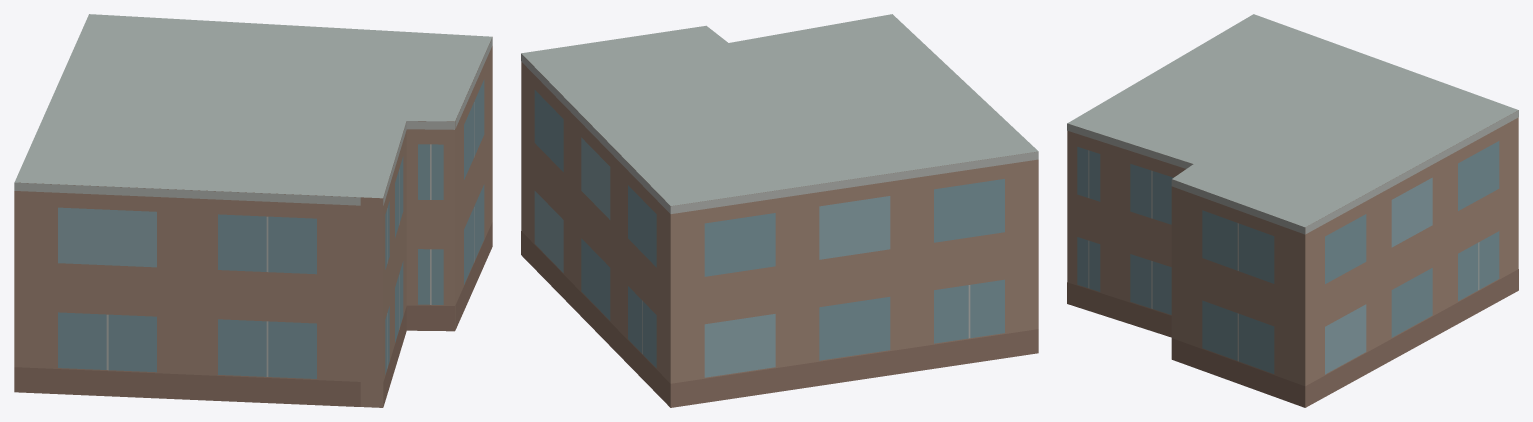
File: survey-upis-32777443.glb
3 views of the same model, side by side, from view 1: azimuth 30°, elevation 25°; view 2: azimuth 150°, elevation 25°; view 3: azimuth 270°, elevation 25° (orthographic). The views are drawn at different scales.
Visible parts, largest first — view 1: survey-upis-32777443.tmp; view 2: survey-upis-32777443.tmp; view 3: survey-upis-32777443.tmp.
Boxes of the visible parts, x1,y1,x2,y2 form: survey-upis-32777443.tmp: [14, 14, 492, 407]; survey-upis-32777443.tmp: [521, 14, 1038, 407]; survey-upis-32777443.tmp: [1067, 14, 1518, 407].
Bounding box in the file's own units: 15.48 × 6.1 × 13.84.
